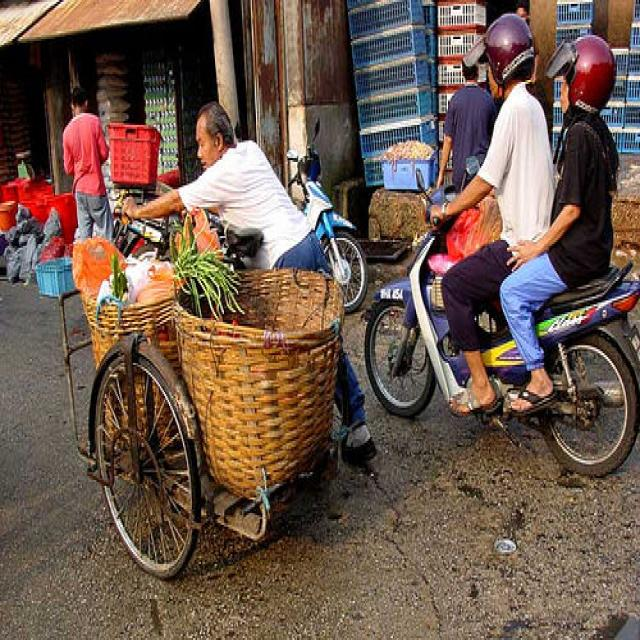motor: (363, 156, 640, 479), (287, 118, 367, 313)
